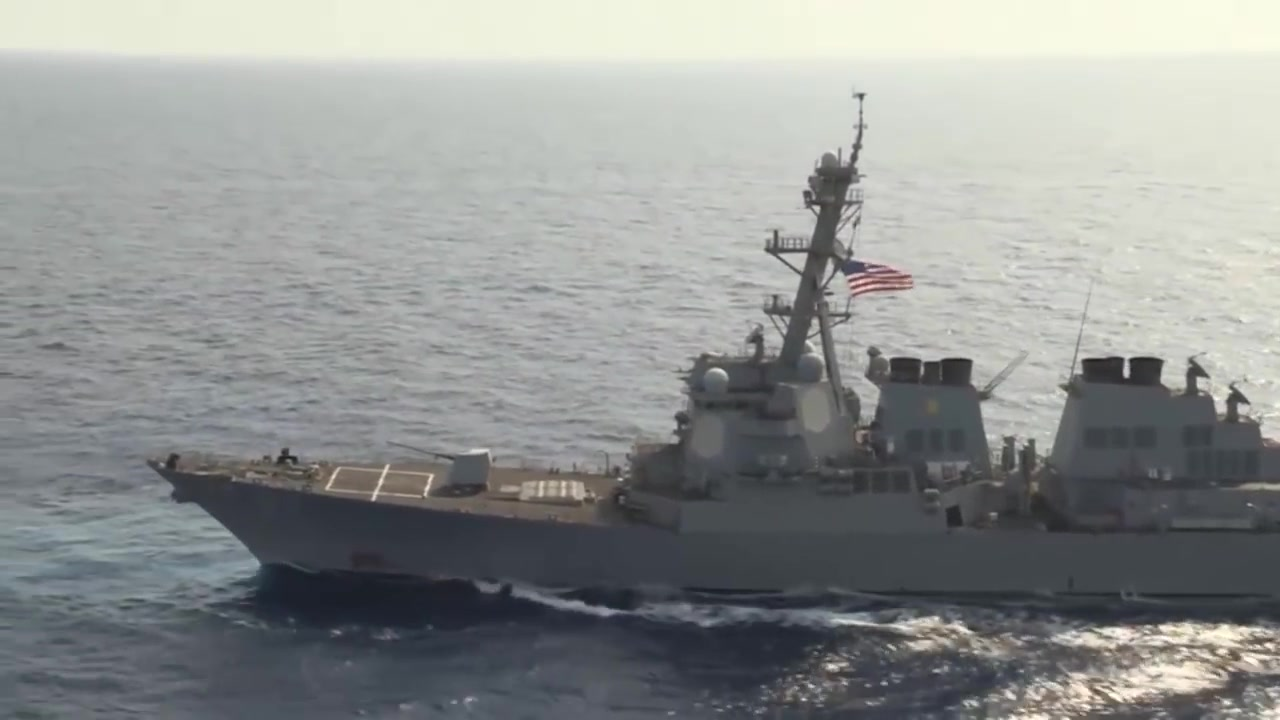WarShip: (144, 92, 1276, 624)
